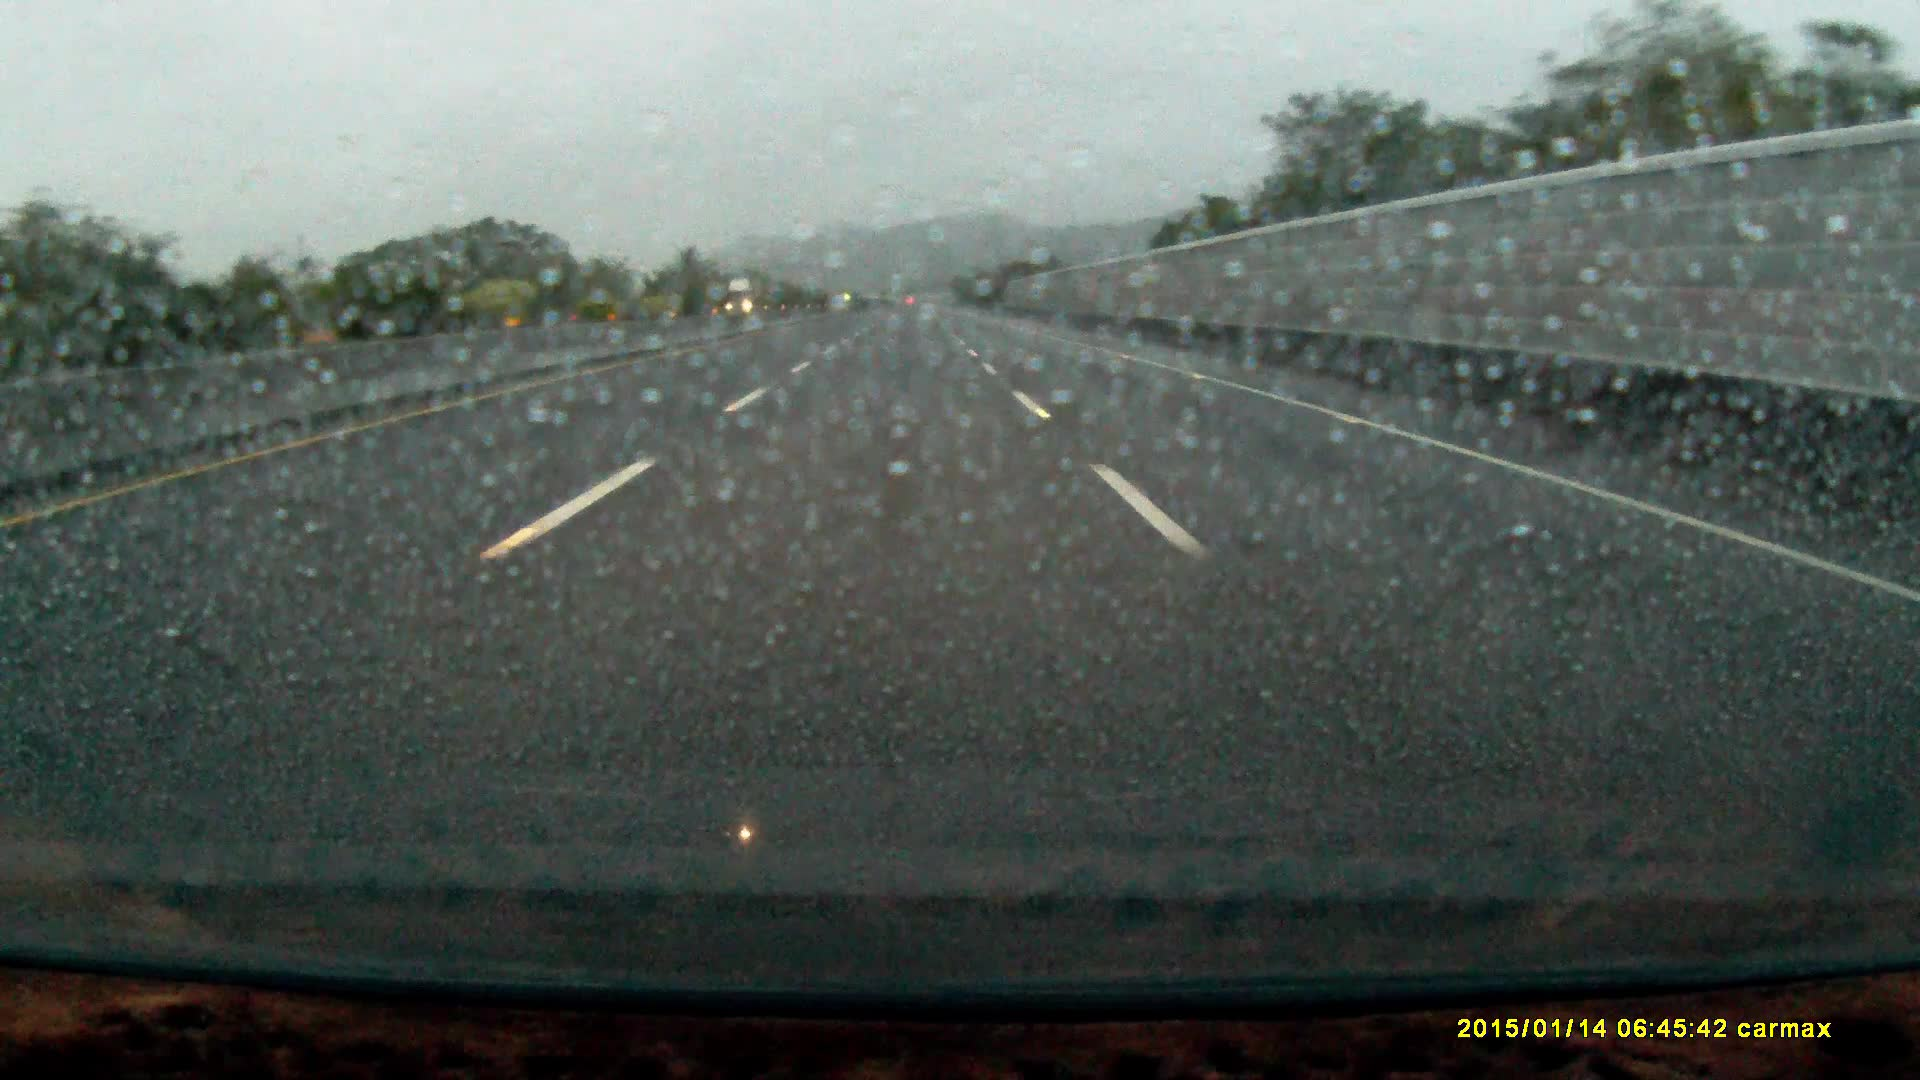vehicle: (724, 280, 764, 316)
